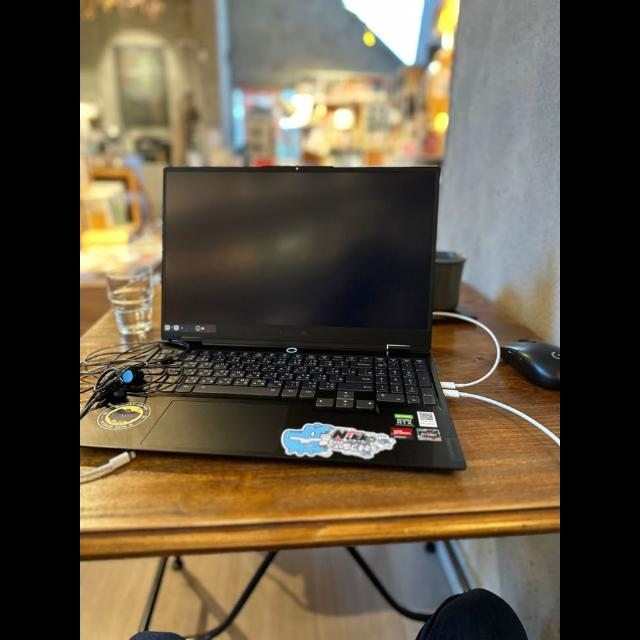laptop: (86, 166, 466, 469)
